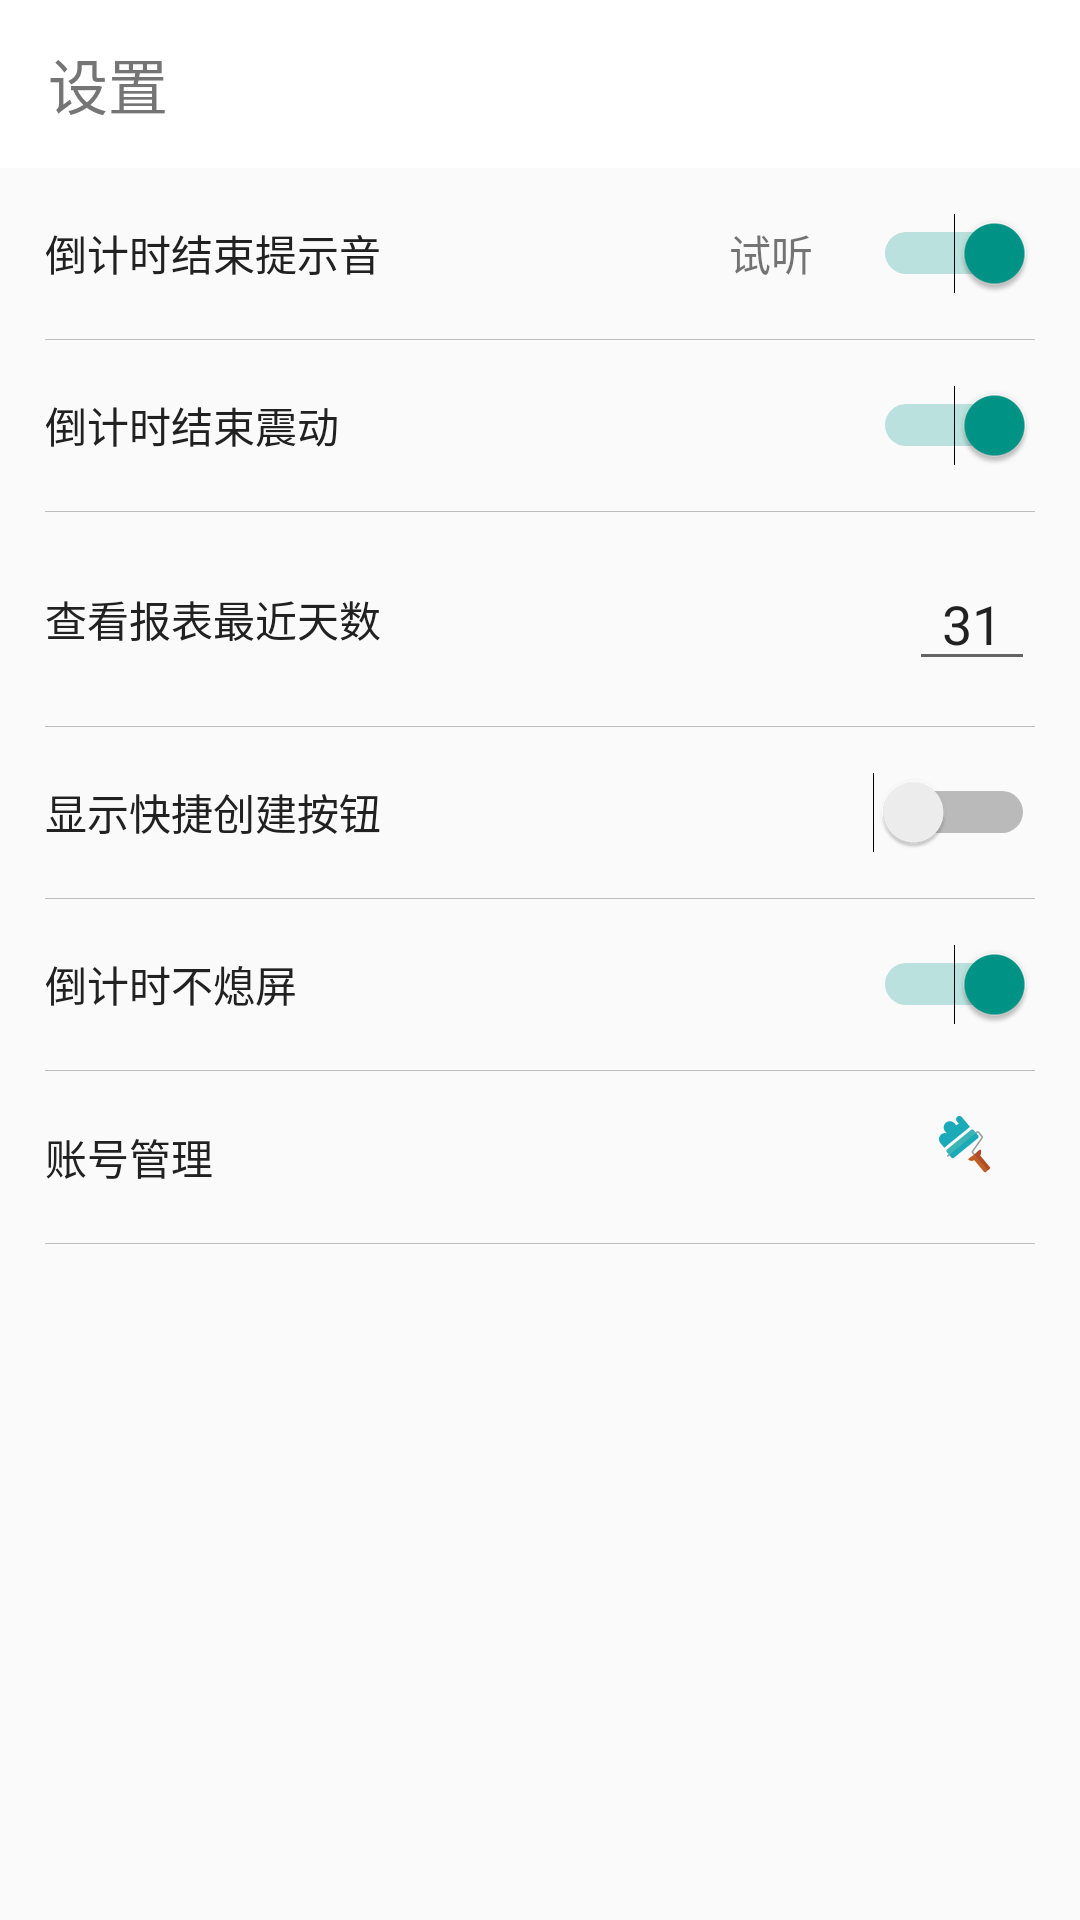

Where to tap for icons on this 1080px×1920px app screen, as (x=x, y=y):
sub edit: (x=964, y=1144)
